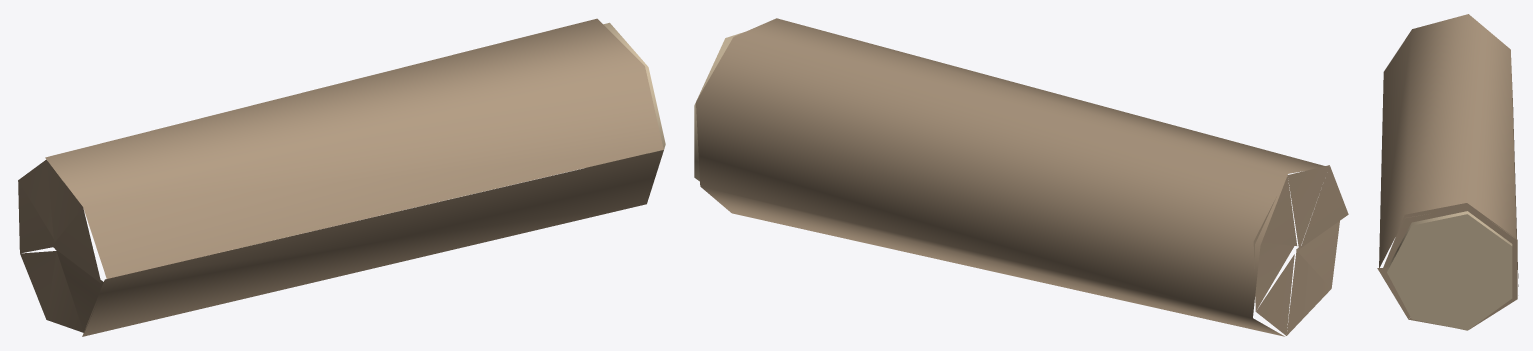
The model's file is log.glb.
The picture shows the model from 3 angles, left to right: view 1: azimuth 30°, elevation 25°; view 2: azimuth 150°, elevation 25°; view 3: azimuth 270°, elevation 25°; orthographic projection. The views are drawn at different scales.
Visible parts, largest first — view 1: log; view 2: log; view 3: log.
Part boxes in pixels (x1,y1,x2,y2): log: (18,18,665,336); log: (694,18,1348,336); log: (1377,14,1518,330).
Bounding box in the file's own units: 1.43 × 0.4456 × 0.4295.
